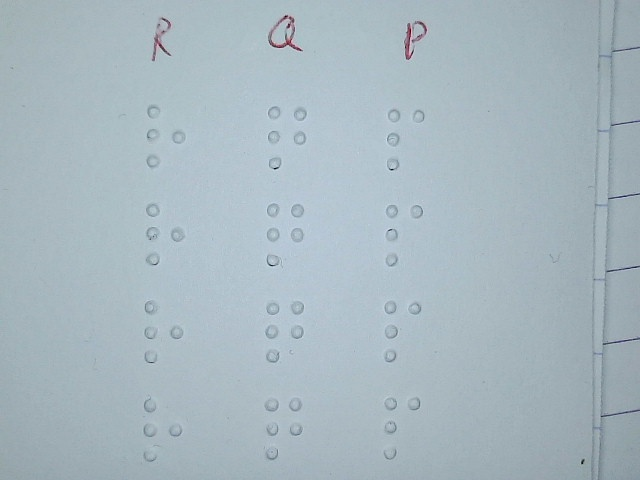P: (384, 105, 427, 173), (383, 202, 426, 270), (381, 297, 424, 365), (381, 393, 424, 461)
Q: (266, 104, 309, 172), (264, 199, 307, 267), (263, 297, 306, 365), (262, 394, 305, 462)
R: (145, 102, 188, 170), (144, 201, 187, 269), (142, 297, 185, 365), (141, 395, 184, 463)
